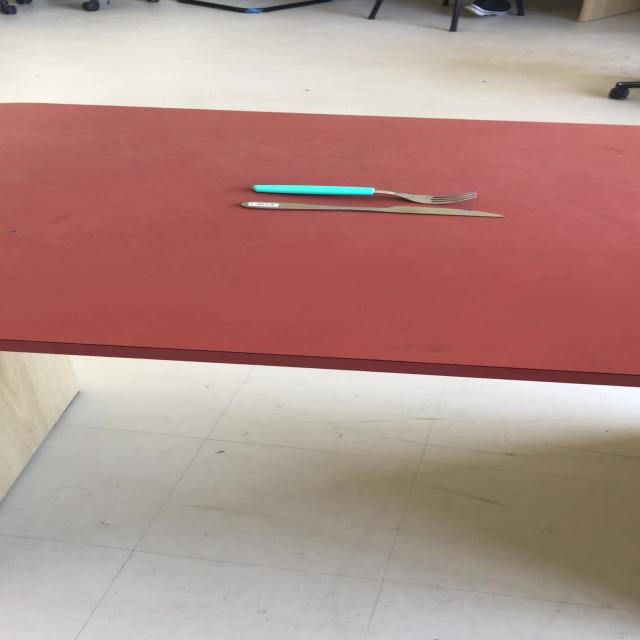fork: (250, 183, 478, 204)
knife fork: (238, 200, 504, 218)
